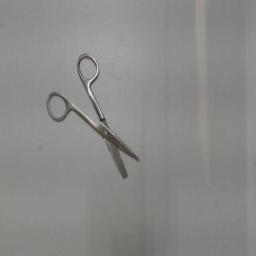Dressing Scissors: (42, 46, 148, 190)
